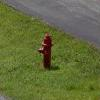Hydrant: (28, 24, 57, 75)
